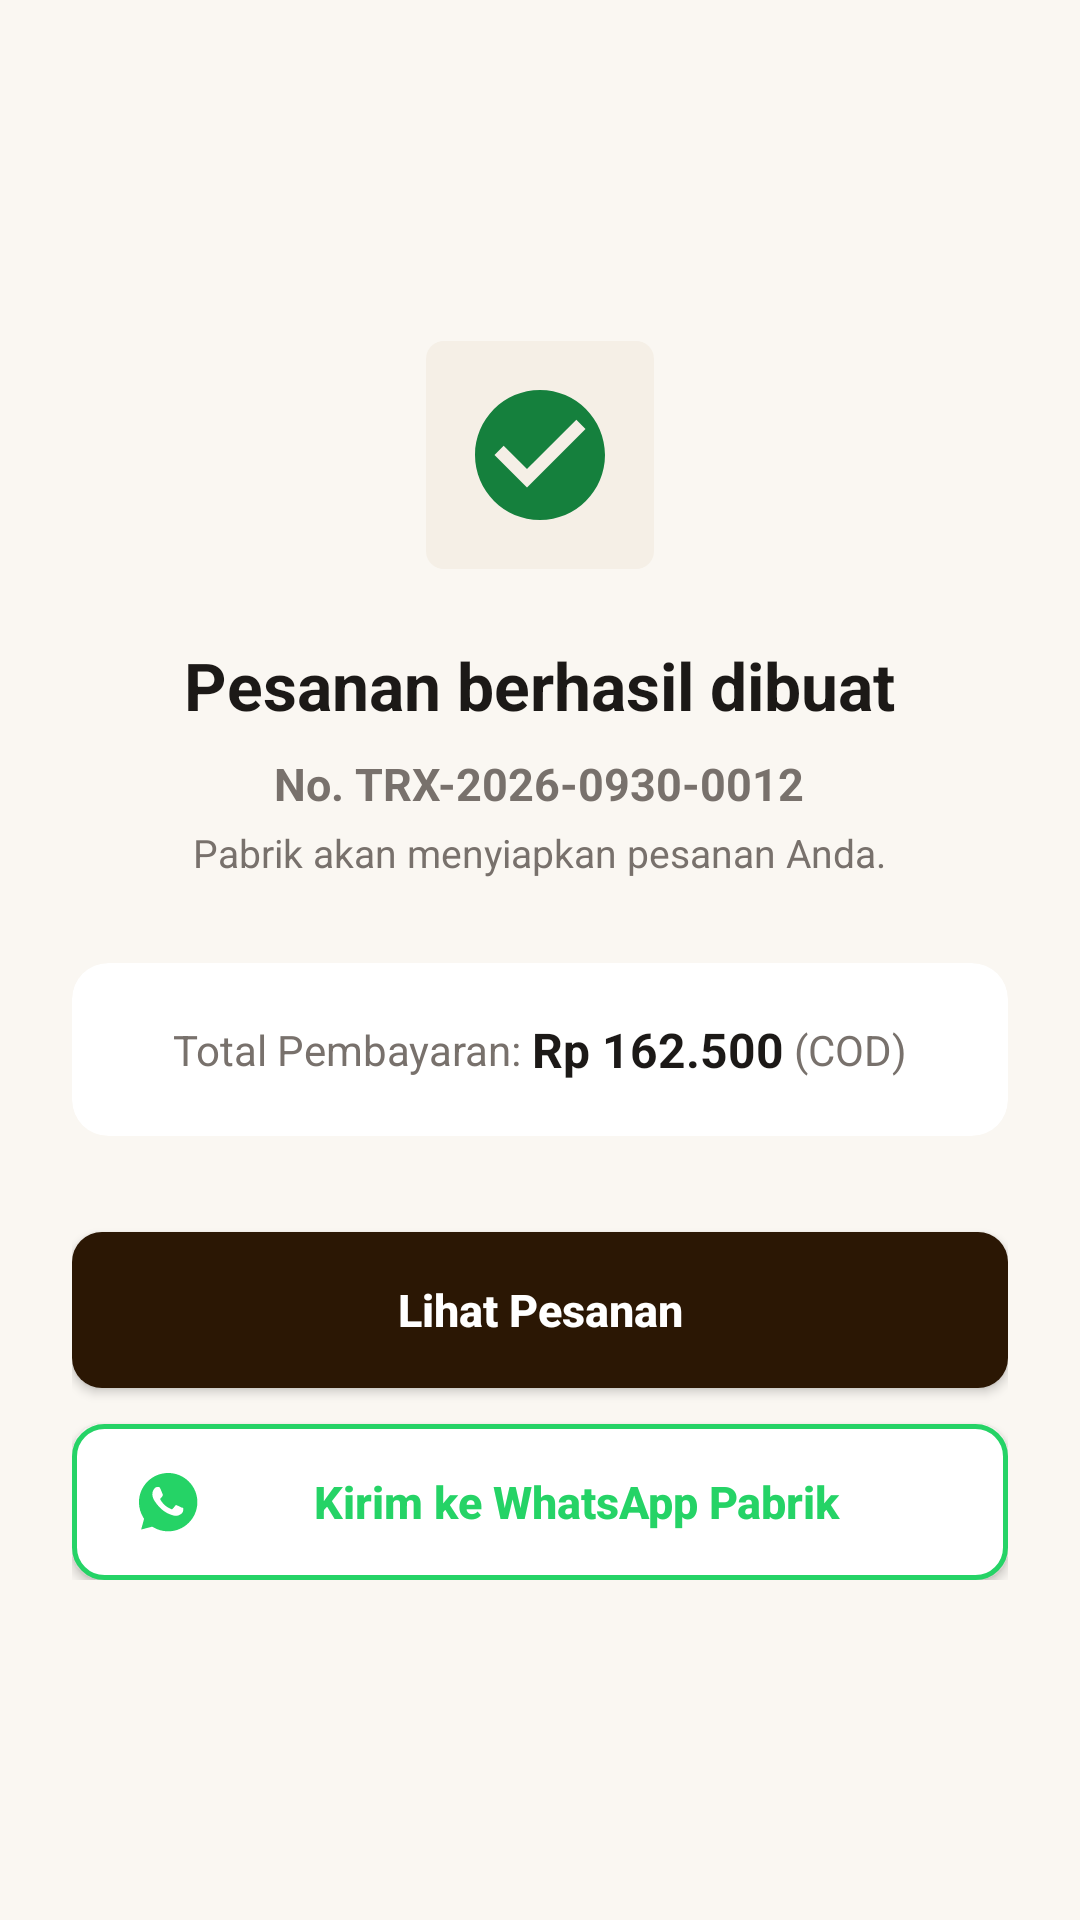

Icon click points for this 1080 × 1920 phone screenshot, format [x,y]:
check circle: [540,455]
